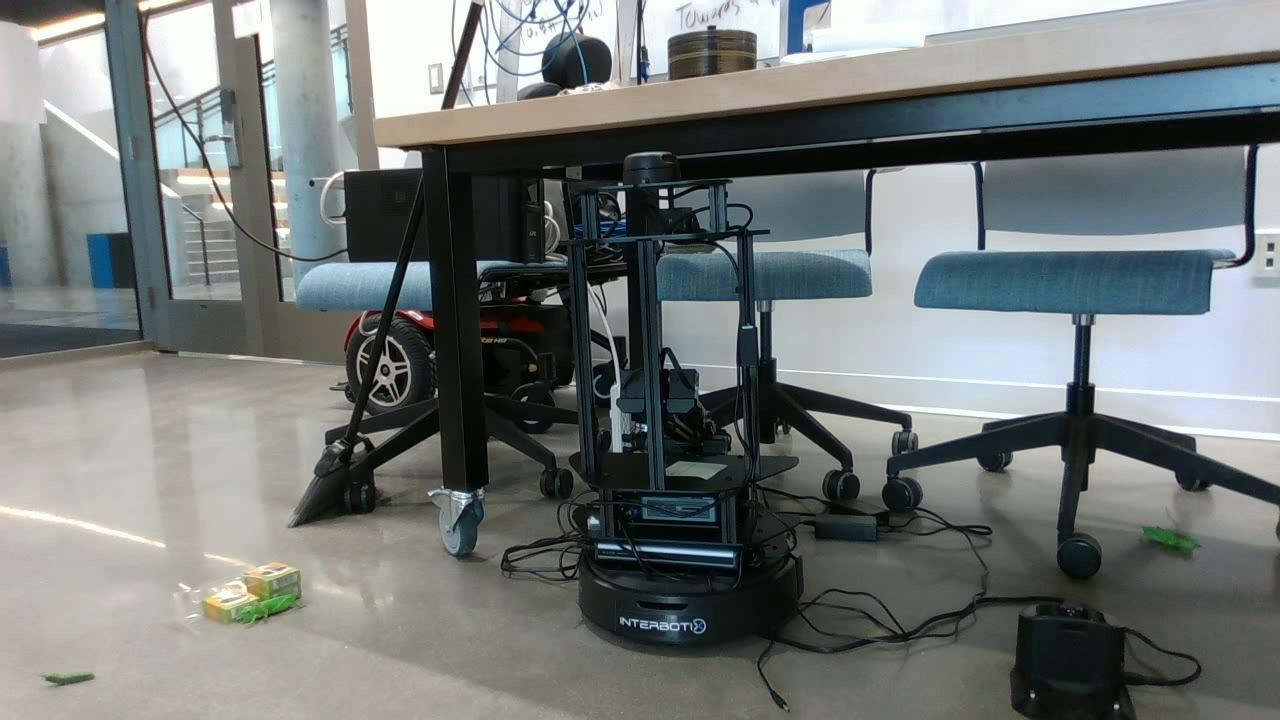grasshopper: (236, 593, 305, 631), (1141, 525, 1198, 557)
